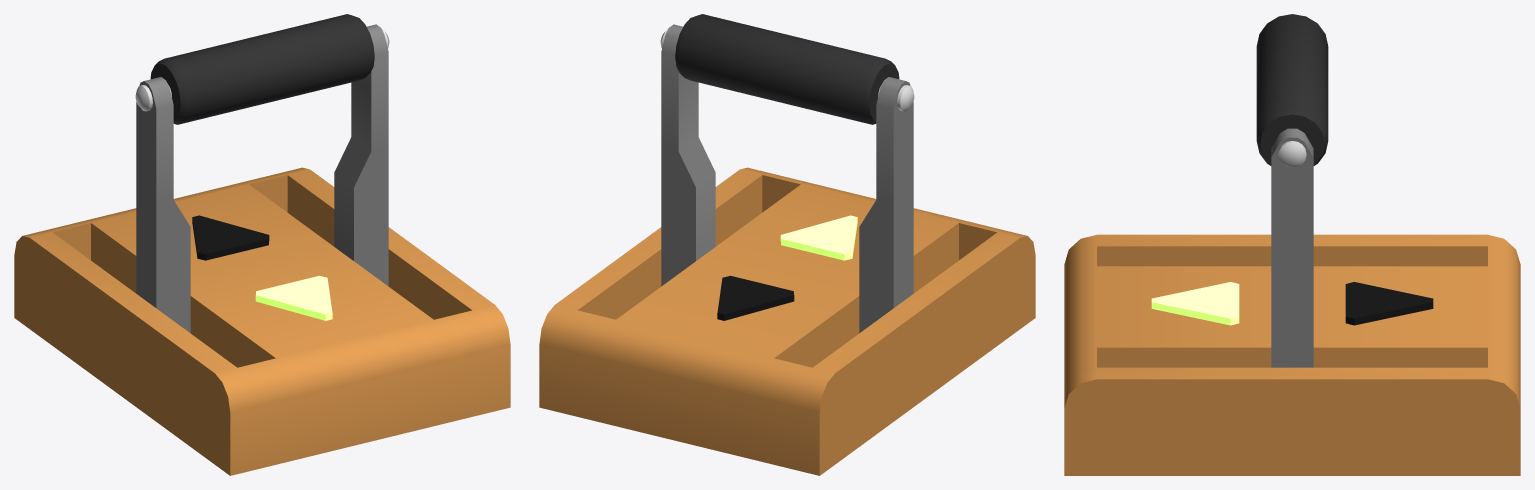
The model's file is Lever.fbx.
3 renders of one model, left to right at view 1: azimuth 30°, elevation 25°; view 2: azimuth 150°, elevation 25°; view 3: azimuth 270°, elevation 25°, orthographic. The views are drawn at different scales.
Parts seen in each view (by area): view 1: Base, Handle Supports, Handle, Up Arrow, Down Arrow; view 2: Base, Handle Supports, Handle, Down Arrow, Up Arrow; view 3: Base, Handle, Handle Supports, Up Arrow, Down Arrow.
Boxes of the visible parts, x1,y1,x2,y2 form: Base: (14, 167, 510, 475); Handle Supports: (136, 24, 388, 332); Handle: (135, 14, 389, 124); Up Arrow: (255, 275, 332, 320); Down Arrow: (192, 215, 269, 260); Base: (539, 167, 1035, 475); Handle Supports: (661, 24, 913, 332); Handle: (660, 14, 914, 124); Down Arrow: (717, 275, 794, 320); Up Arrow: (780, 215, 857, 260); Base: (1064, 234, 1520, 475); Handle: (1256, 14, 1328, 167); Handle Supports: (1271, 128, 1313, 367); Up Arrow: (1151, 282, 1239, 325); Down Arrow: (1345, 282, 1433, 325).
Size of the model in its own units: 300 by 331 by 400.
